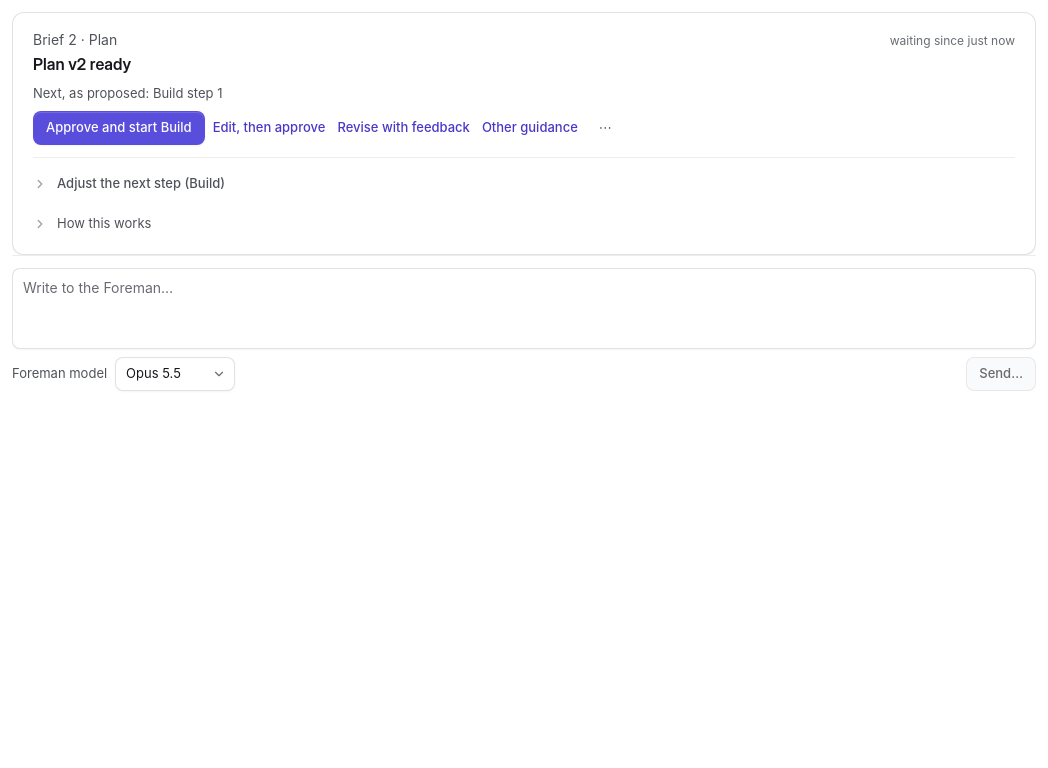
the lock on the page › a gate answer refused with the lock error shows the card on the gate
Click the button "Approve and start Build" at [119, 128], box [33,111,205,145]
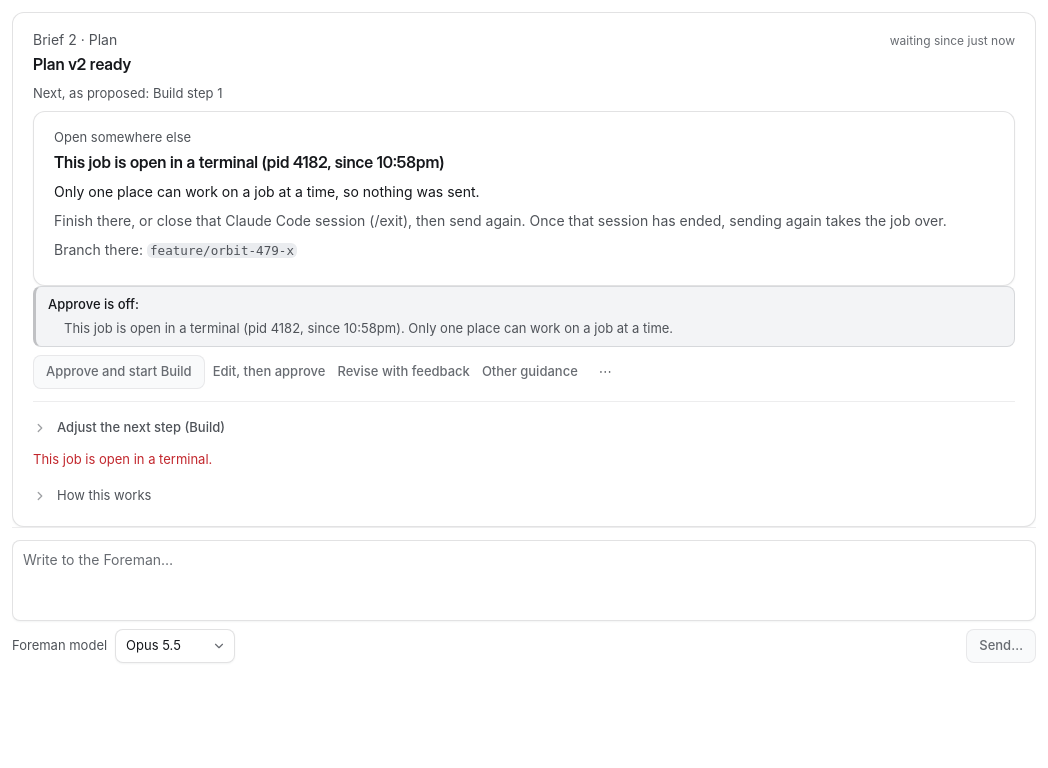
Now the message named "Job open elsewhere" is shown, box [33,111,1015,286]
Now the button "Approve and start Build" is disabled, box [33,355,205,389]
